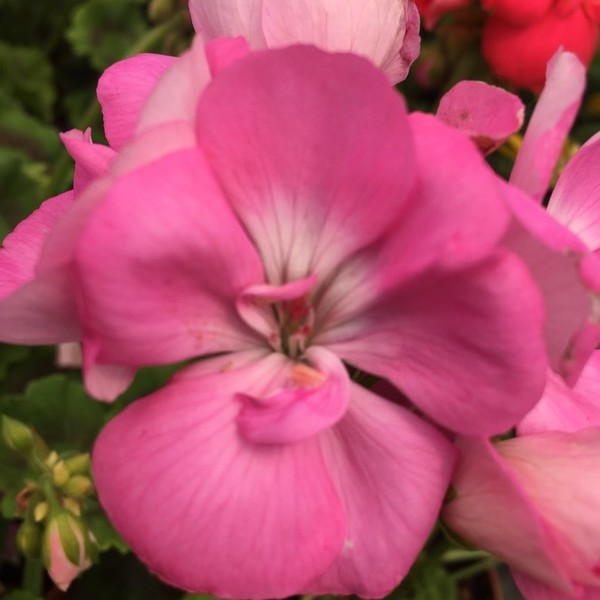obstacle: (19, 55, 552, 566)
